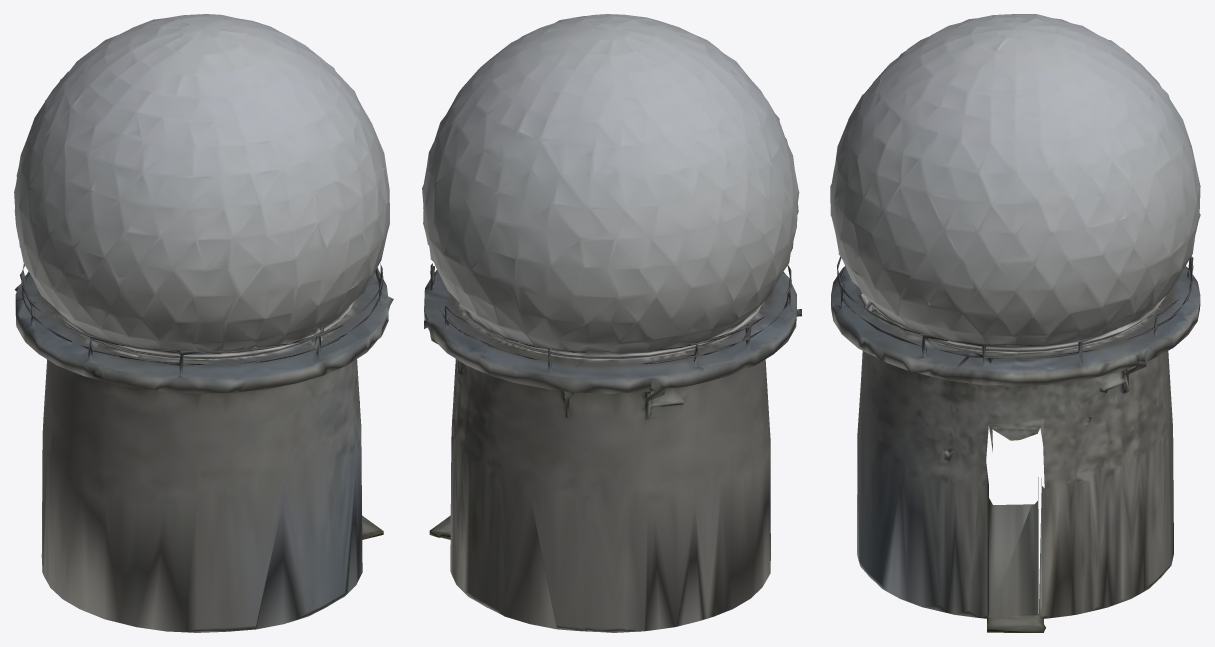
File: radar_dome.7f784bddf6.glb
3 views of the same model, side by side, from view 1: azimuth 30°, elevation 25°; view 2: azimuth 150°, elevation 25°; view 3: azimuth 270°, elevation 25° (orthographic). The views are drawn at different scales.
Parts seen in each view (by area): view 1: radar_dome; view 2: radar_dome; view 3: radar_dome.
Part boxes in pixels (bbox=[...]): radar_dome: bbox=[14, 14, 393, 632]; radar_dome: bbox=[422, 14, 801, 632]; radar_dome: bbox=[830, 14, 1200, 632].
Size of the model in its own units: 14.67 by 22.7 by 14.55.
1 material, 1 textured.
